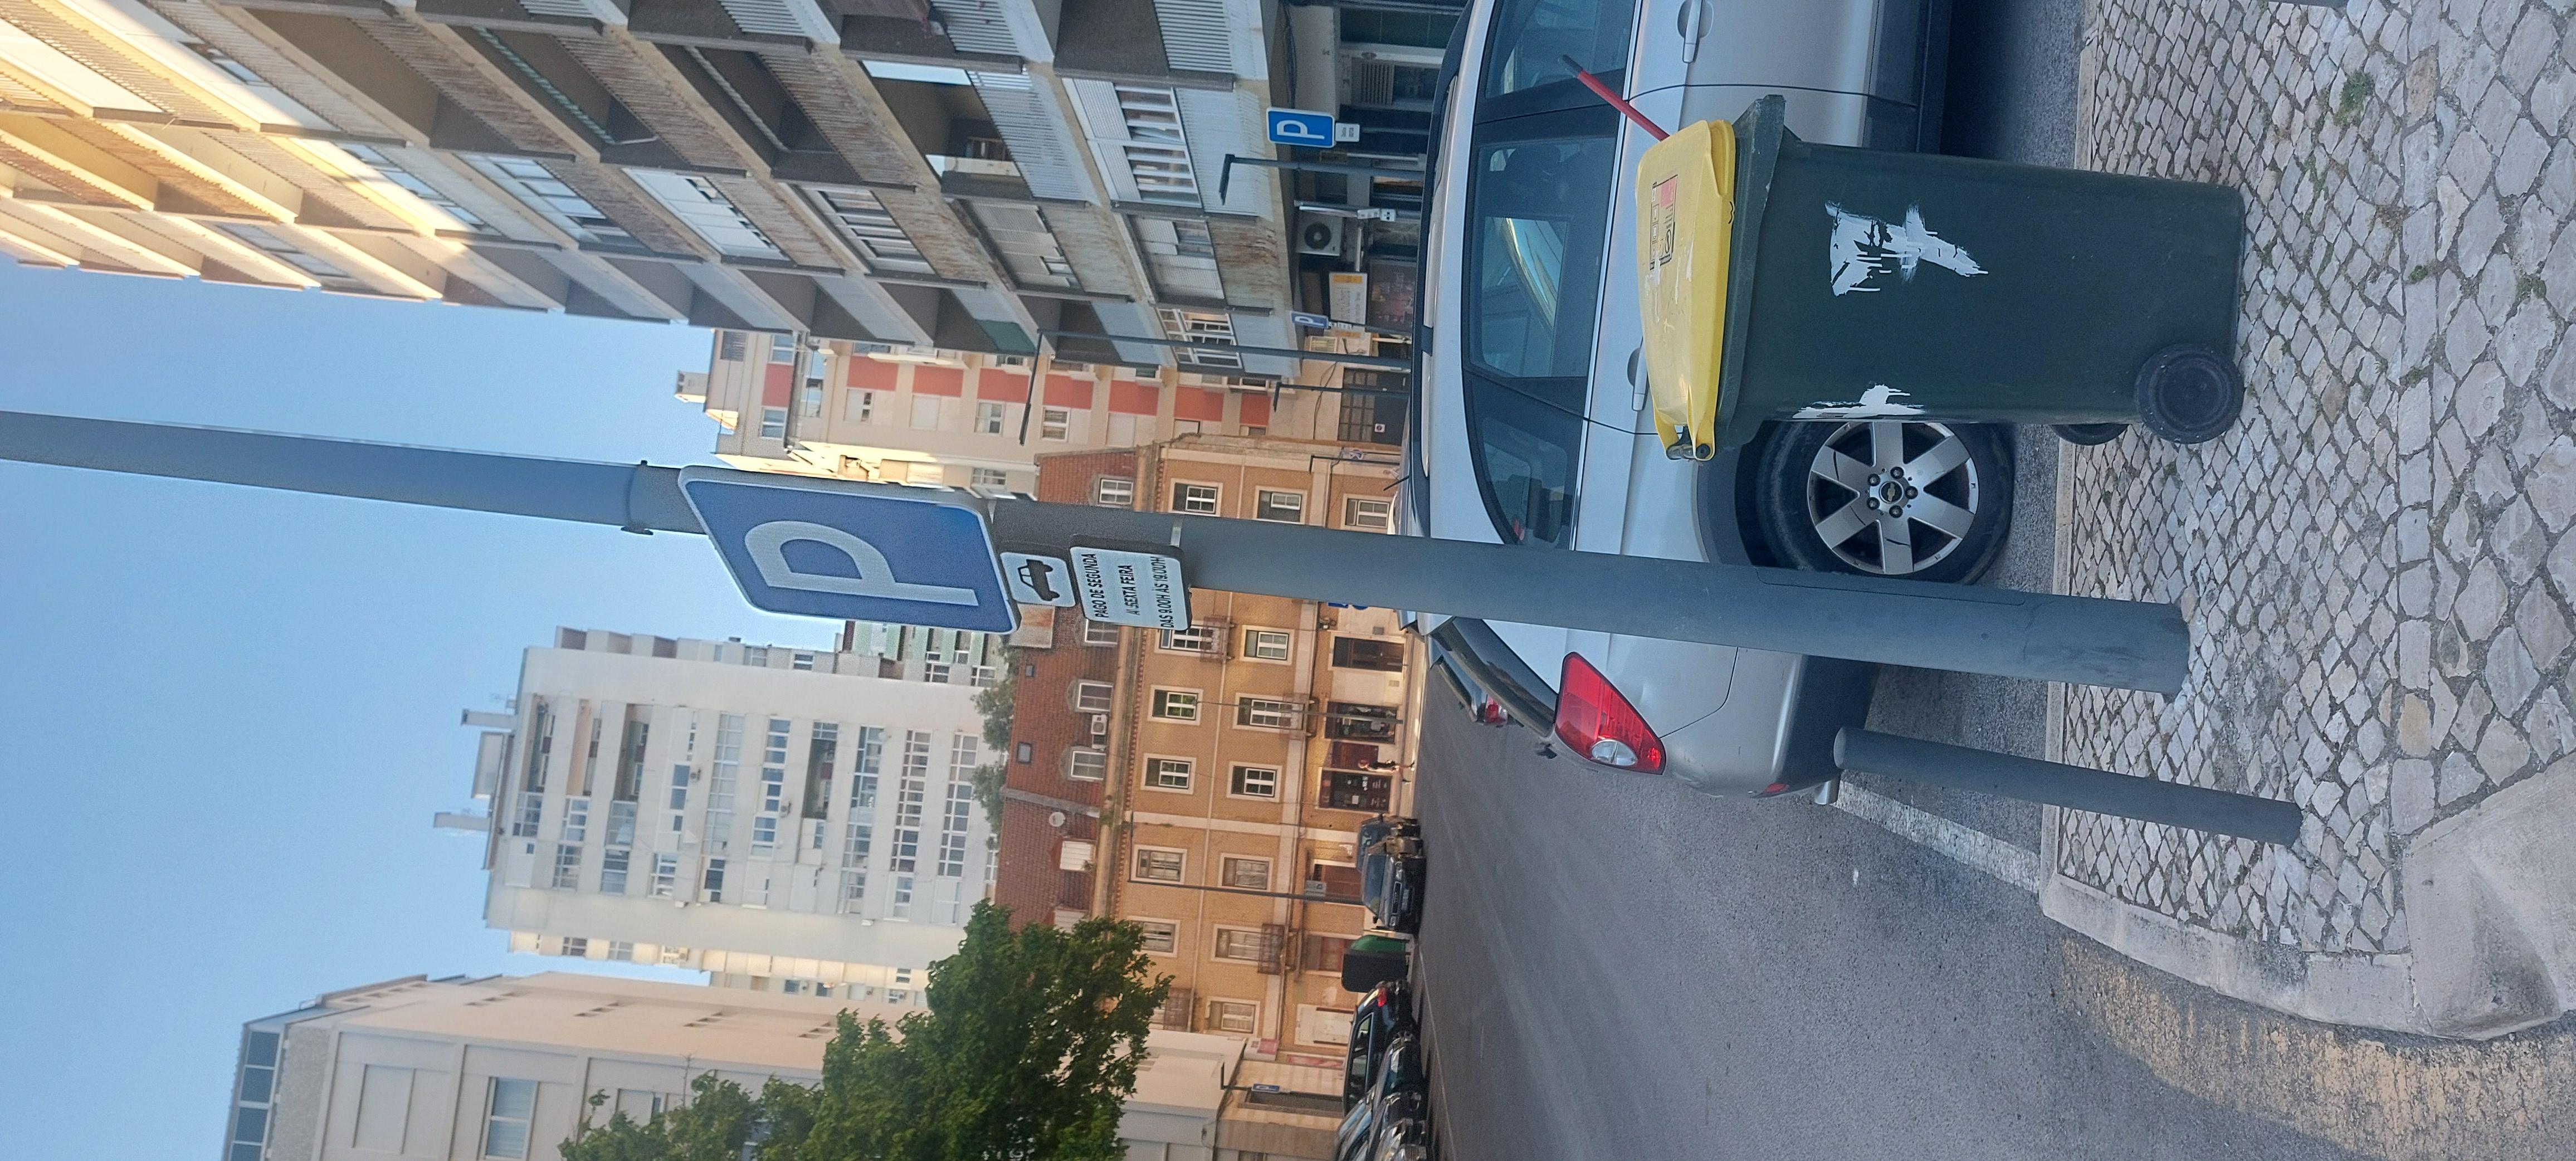Estacionamento autorizado: (1124, 294, 1548, 468)
